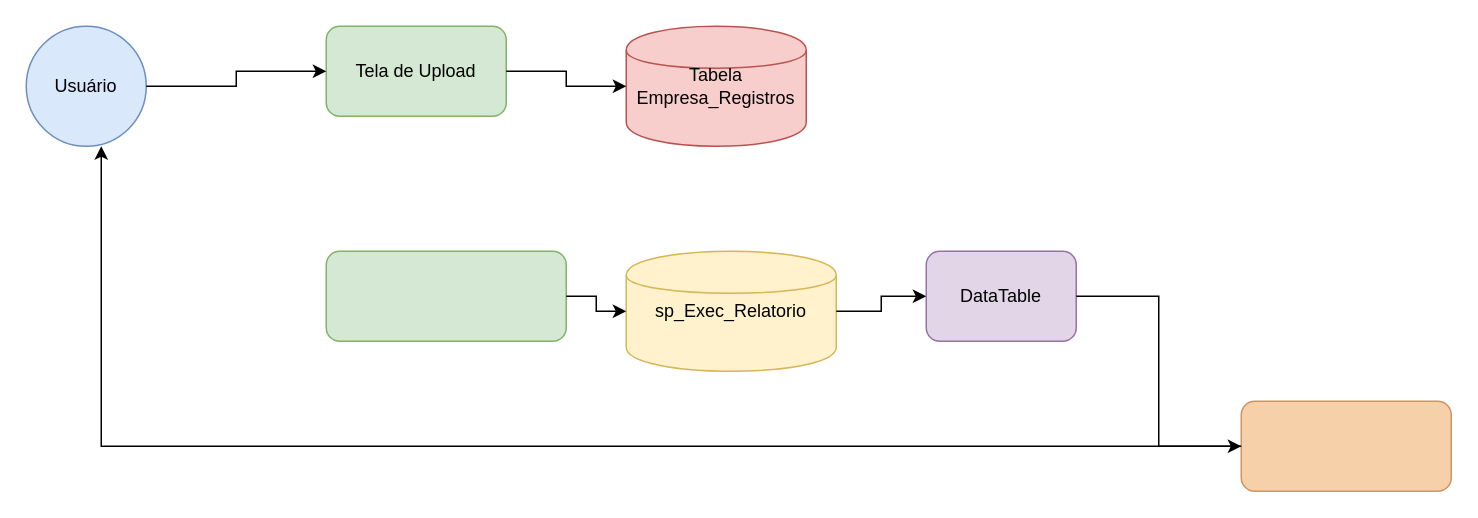
Some shapes in this 1478 by 518 pixel diagram are drawn without their labels. The centre of each missing label's shape, as x and y in pixels:
"Formulário de Análise" goes at pixel 445 295.
"ReportViewer" goes at pixel 1345 445.
